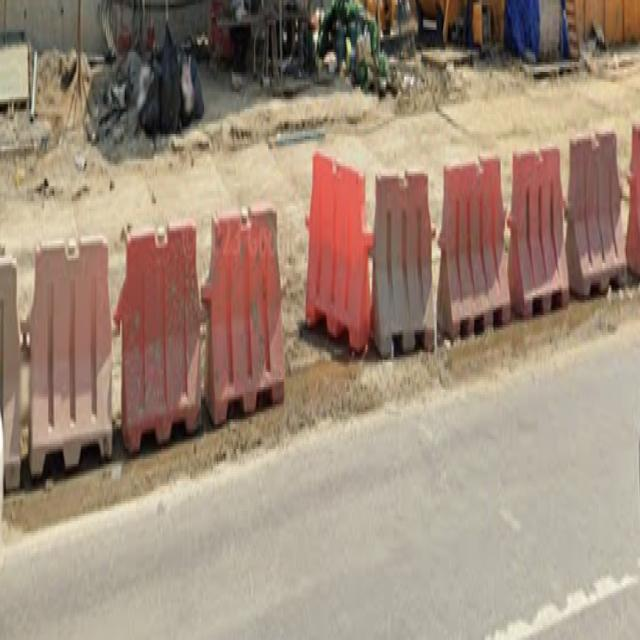fallen_object: (283, 136, 446, 373), (112, 216, 293, 429), (0, 223, 141, 475), (415, 153, 585, 354), (570, 116, 640, 349)
